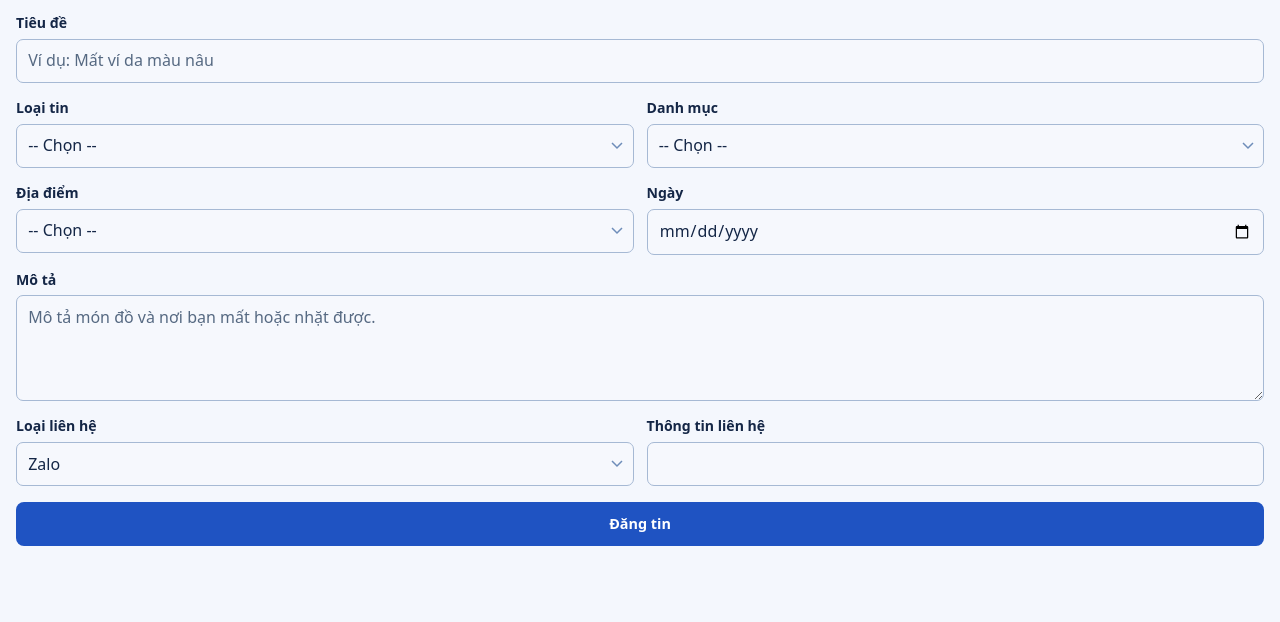
Test: Form đăng tin › giữ tiêu đề đã nhập khi server báo không có quyền
Type "Mất ví da" into the field labelled "Tiêu đề" at (640, 61), box [16,39,1264,83]
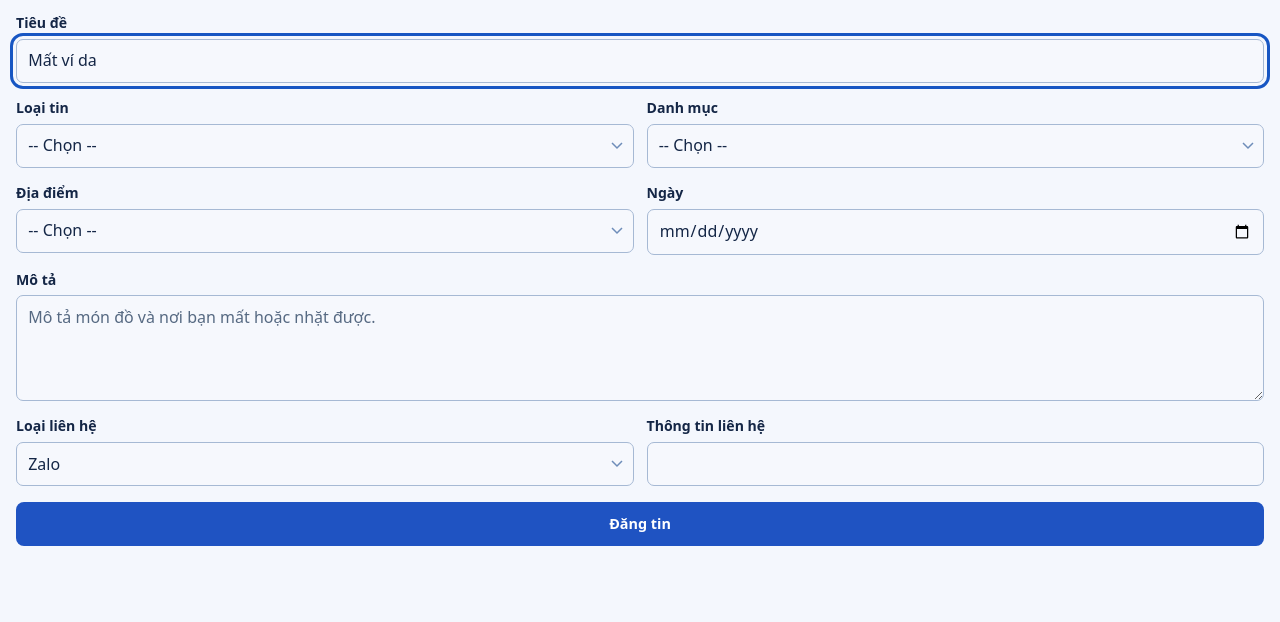
Click the button "Đăng tin" at (640, 524), box [16,502,1264,546]
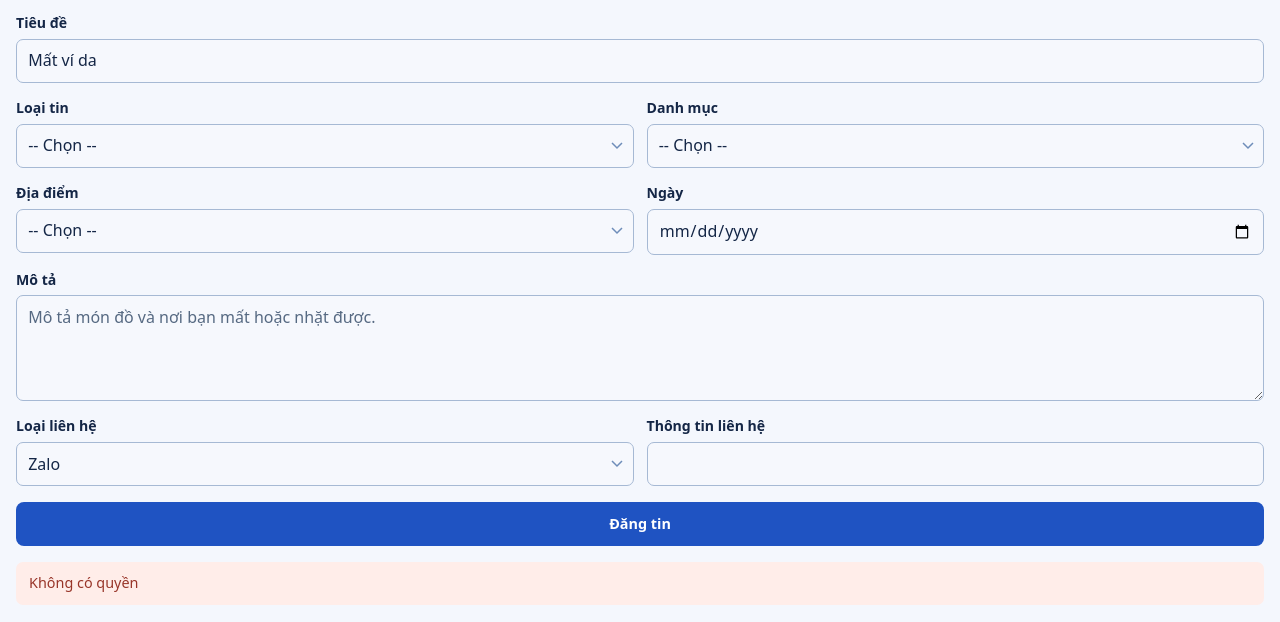
Expected: the field labelled "Tiêu đề" holds "Mất ví da", [16,39,1264,83]
Expected: the message reads "Không có quyền", [29,573,138,592]
